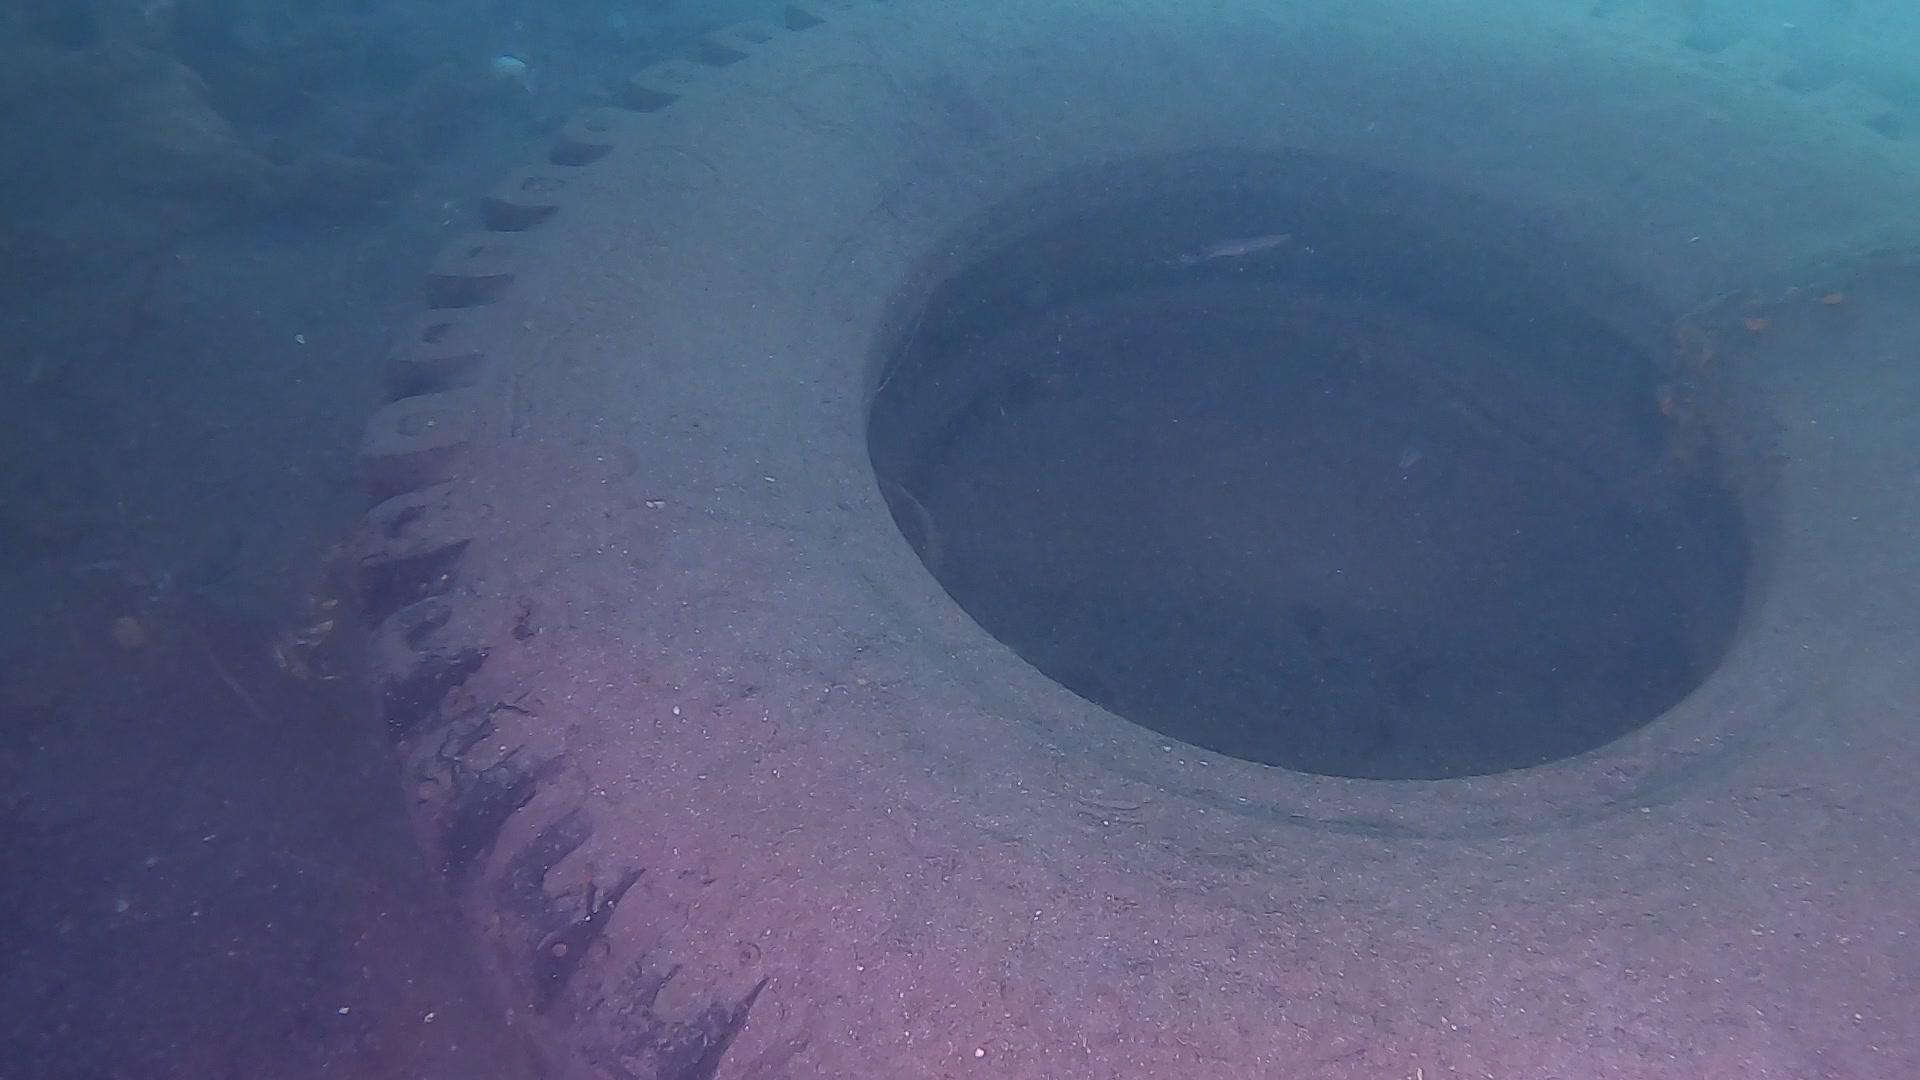tire: (351, 0, 1920, 1080)
